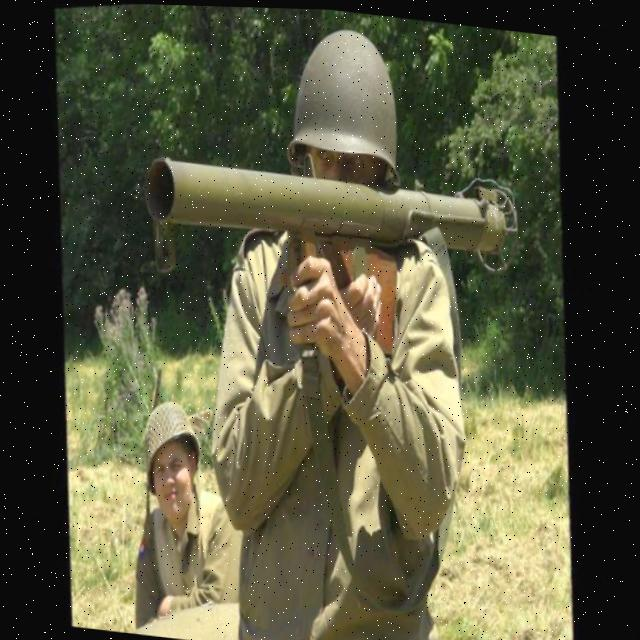rocket: (126, 89, 540, 328)
